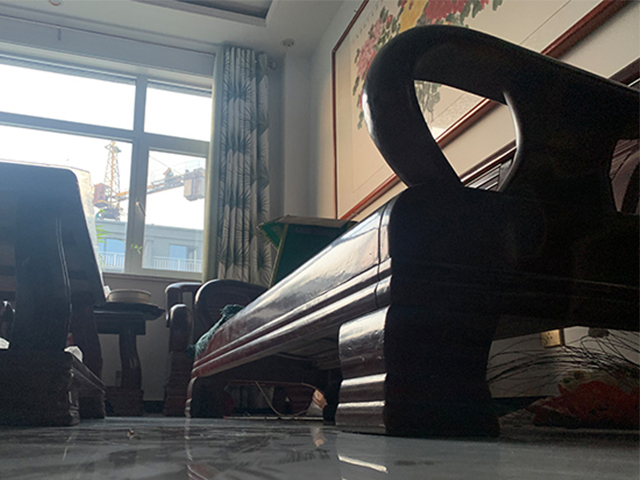curtain: (210, 42, 279, 285)
sofa: (184, 23, 640, 439)
table: (1, 160, 105, 428)
